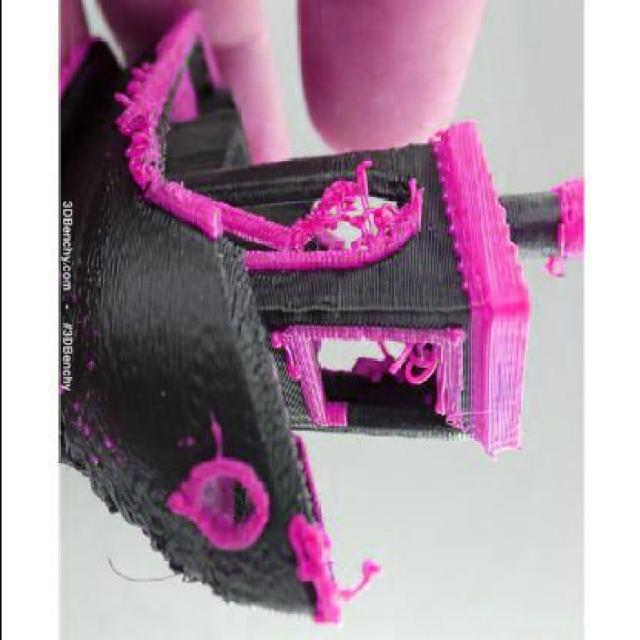Spaghetti: (287, 153, 430, 256), (109, 57, 162, 168), (373, 332, 452, 388)
